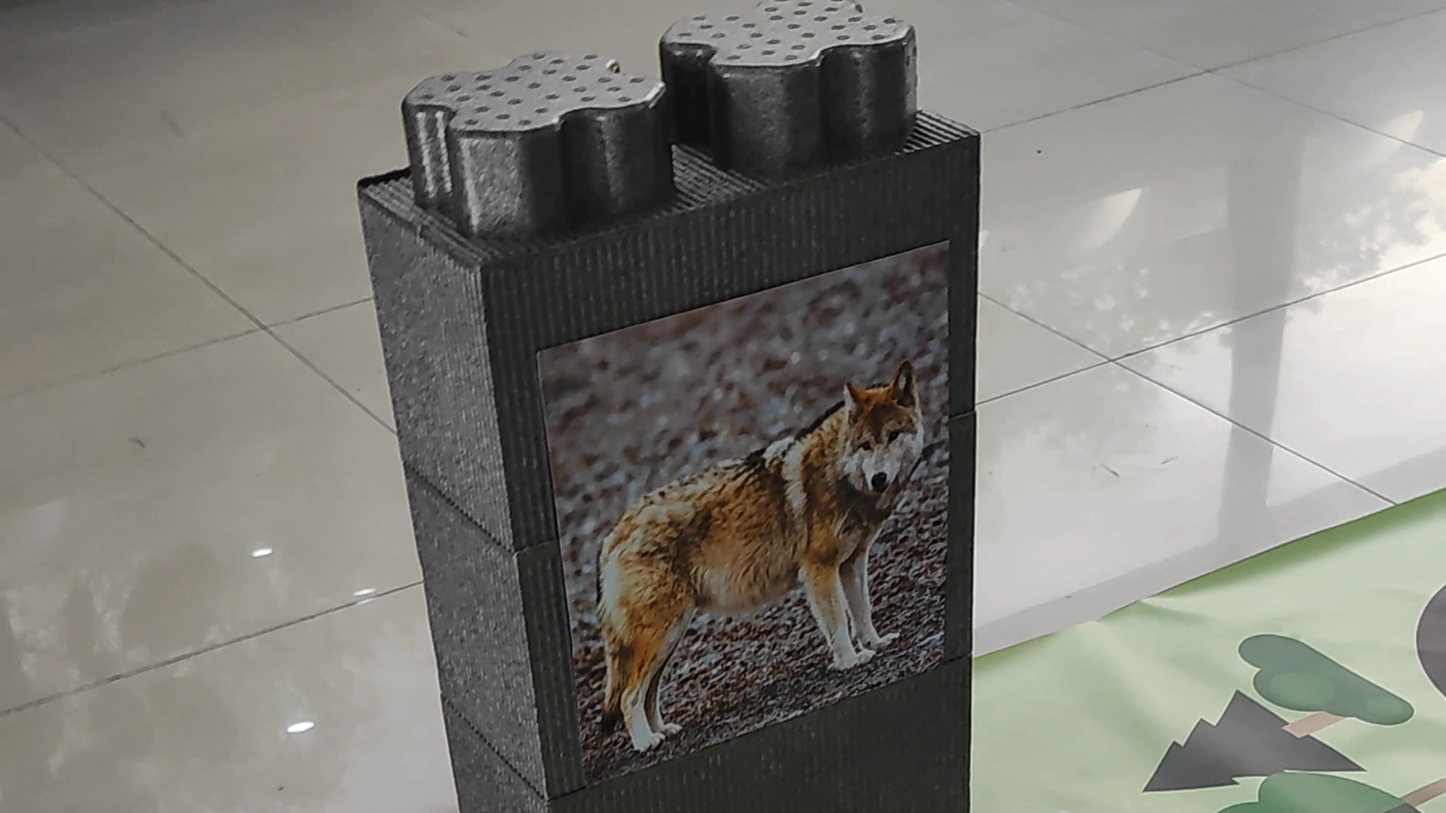wolf: (567, 377, 946, 761)
